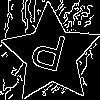P: (26, 29, 69, 82)
